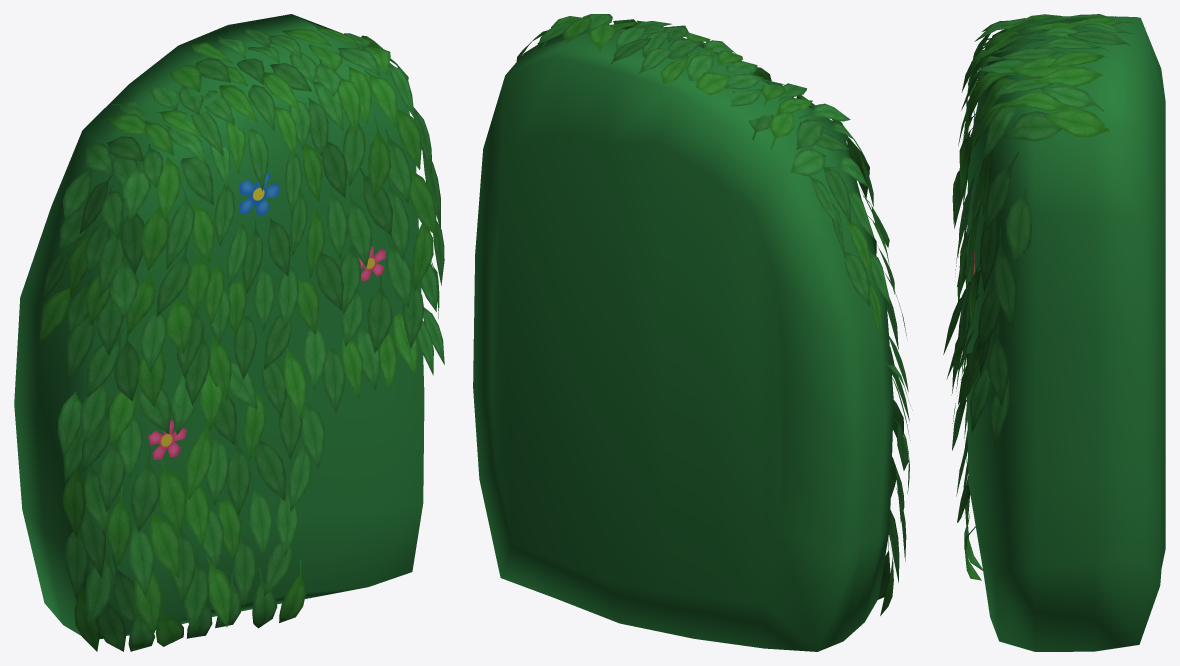
File: ArbustoAltoEsquerdoFlores.fbx
3 views of the same model, side by side, from view 1: azimuth 30°, elevation 25°; view 2: azimuth 150°, elevation 25°; view 3: azimuth 270°, elevation 25° (orthographic). The views are drawn at different scales.
Parts seen in each view (by area): view 1: ArbustoAltoEsquerdoFlores; view 2: ArbustoAltoEsquerdoFlores; view 3: ArbustoAltoEsquerdoFlores.
Boxes of the visible parts, x1=… form: ArbustoAltoEsquerdoFlores: x1=14, y1=14, x2=444, y2=651; ArbustoAltoEsquerdoFlores: x1=473, y1=14, x2=910, y2=651; ArbustoAltoEsquerdoFlores: x1=943, y1=14, x2=1165, y2=651.
Bounding box in the file's own units: 1593 × 2189 × 778.
